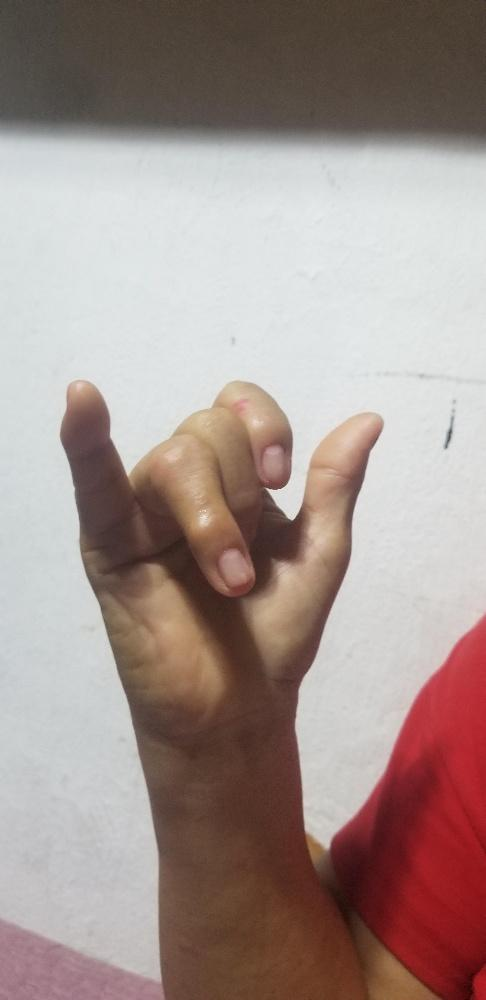y: (59, 377, 384, 701)
